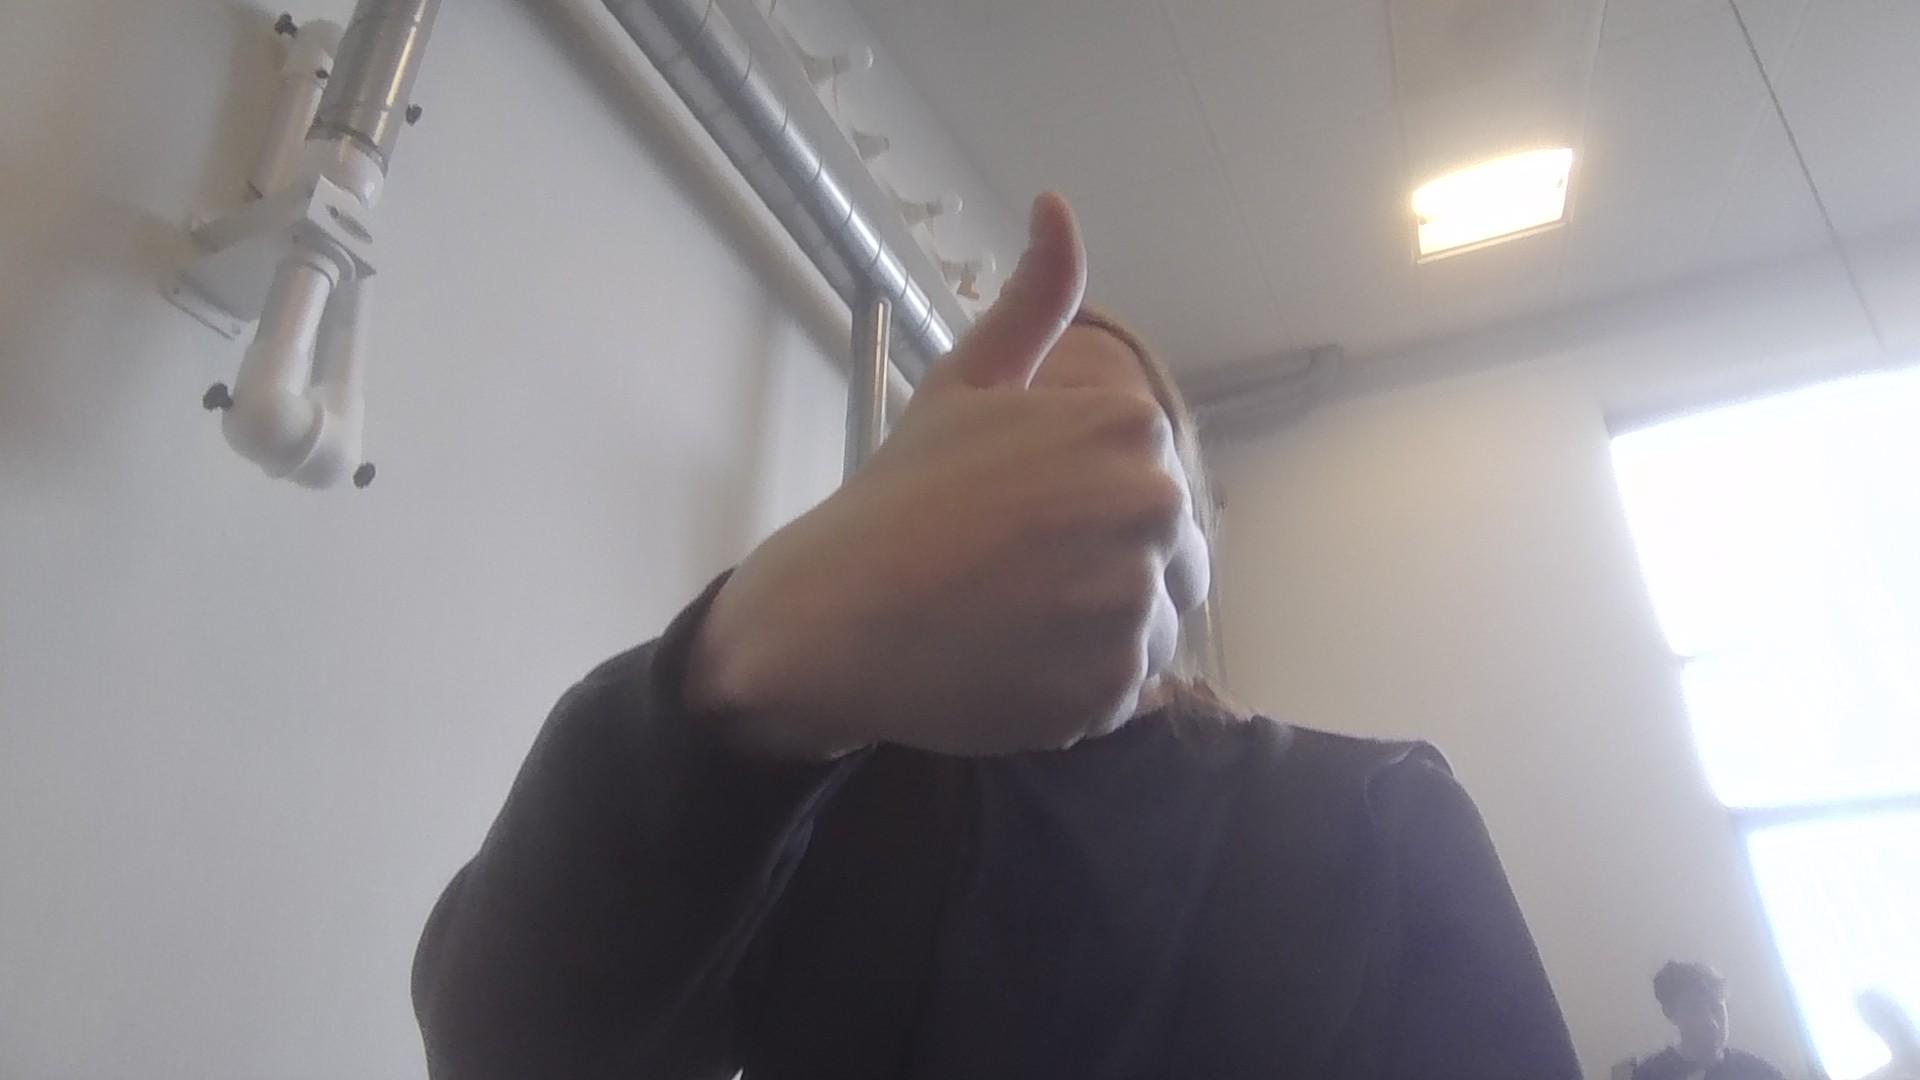thumbs up: (785, 189, 1217, 767)
